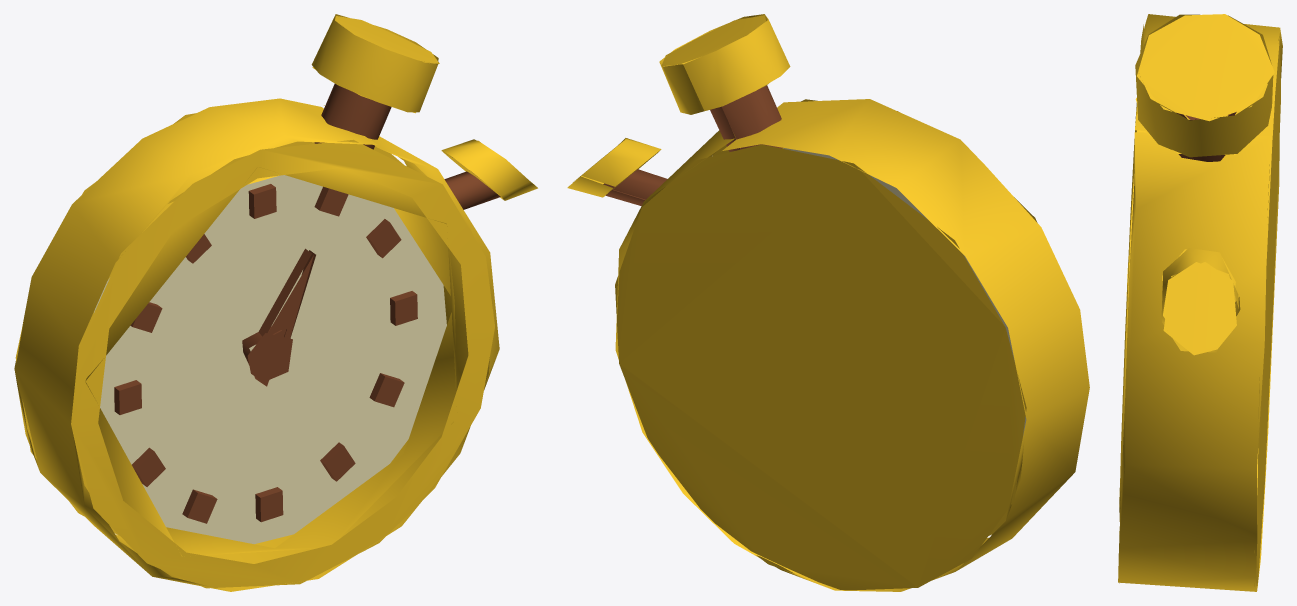
The model's file is stopwatch.glb.
The picture shows the model from 3 angles, left to right: view 1: azimuth 30°, elevation 25°; view 2: azimuth 150°, elevation 25°; view 3: azimuth 270°, elevation 25°; orthographic projection. The views are drawn at different scales.
Parts seen in each view (by area): view 1: Cylinder.019; view 2: Cylinder.019; view 3: Cylinder.019.
Part boxes in pixels (bbox=[...]): Cylinder.019: bbox=[14, 14, 537, 591]; Cylinder.019: bbox=[567, 14, 1089, 591]; Cylinder.019: bbox=[1118, 14, 1282, 591].
Size of the model in its own units: 2.27 by 2.3 by 0.5712.
